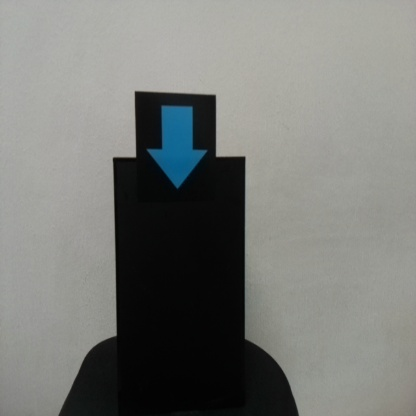id_2: (134, 92, 216, 208)
